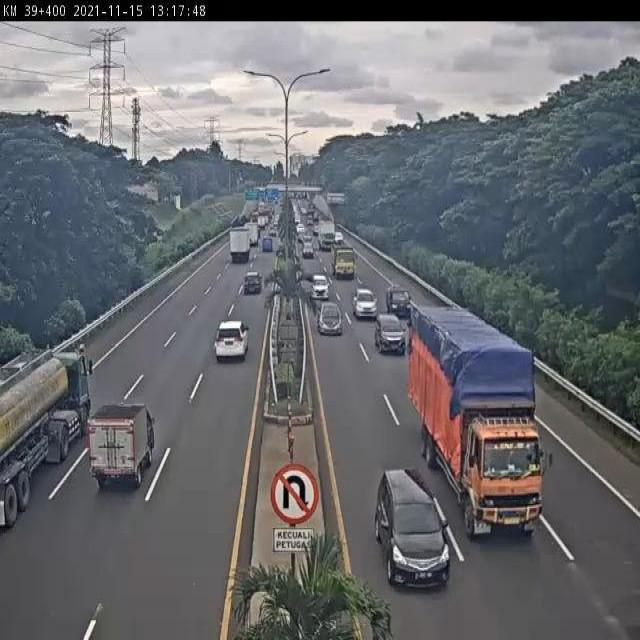car: (376, 466, 450, 590), (215, 320, 251, 361), (375, 312, 407, 355), (317, 301, 344, 335), (352, 288, 379, 321), (242, 270, 263, 298), (310, 273, 330, 300)
small truck: (85, 400, 155, 487)
truck-l-: (409, 306, 555, 546)
truck-m-: (330, 243, 359, 280), (229, 226, 250, 262)
truck-s-: (386, 284, 414, 321)
truck-xl-: (0, 346, 92, 534)
